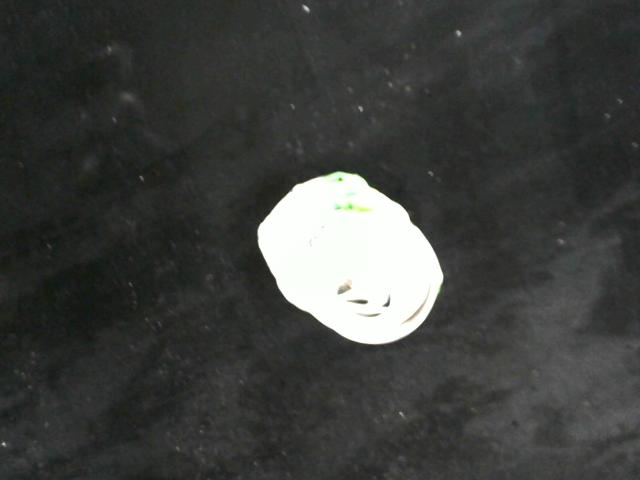can: (256, 166, 450, 352)
